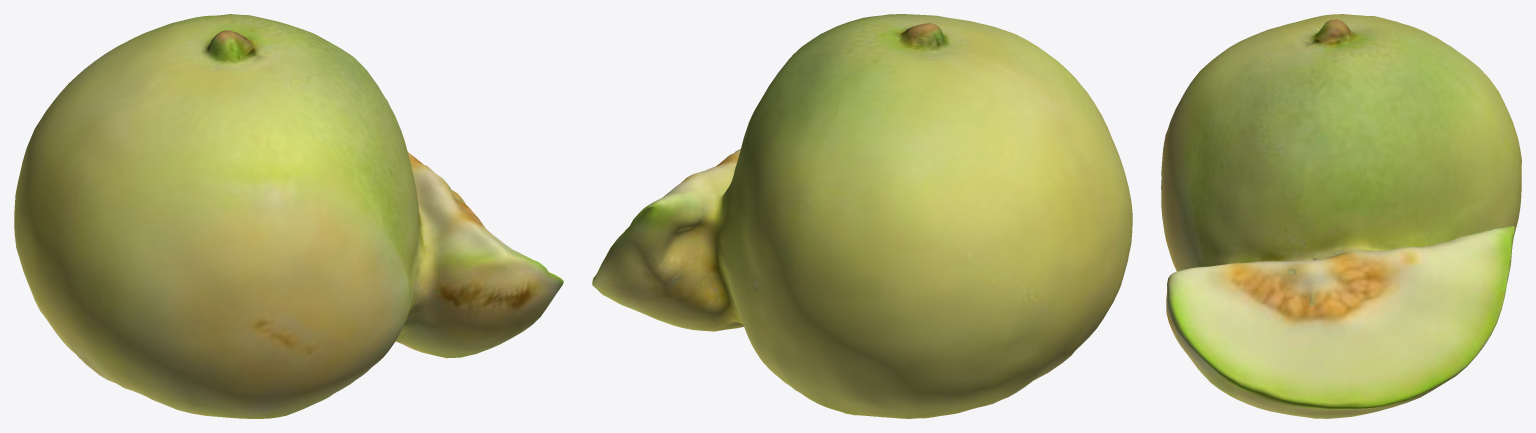
3 views of the same model, side by side, from view 1: azimuth 30°, elevation 25°; view 2: azimuth 150°, elevation 25°; view 3: azimuth 270°, elevation 25° (orthographic). The views are drawn at different scales.
Bounding box in the file's own units: 2 × 1.45 × 1.55.
Materials: 1 (1 with a texture image).
